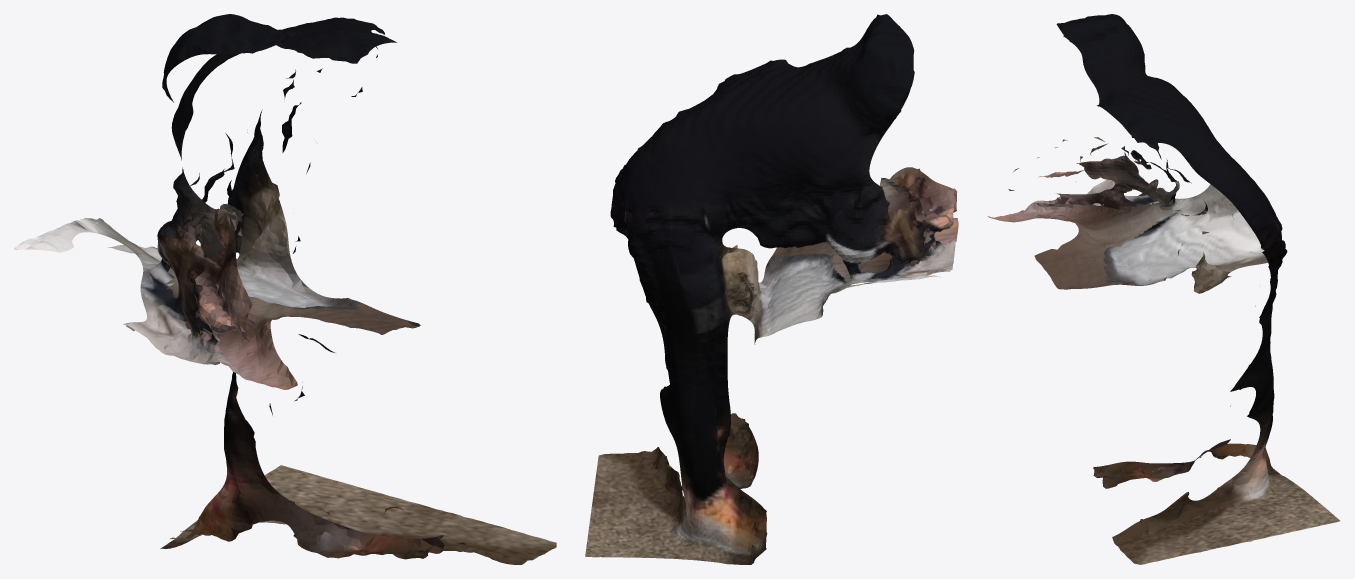
The picture shows the model from 3 angles, left to right: view 1: azimuth 30°, elevation 25°; view 2: azimuth 150°, elevation 25°; view 3: azimuth 270°, elevation 25°; orthographic projection. The views are drawn at different scales.
Size of the model in its own units: 1.03 by 1.24 by 0.9157.
Materials: 1 (1 with a texture image).
